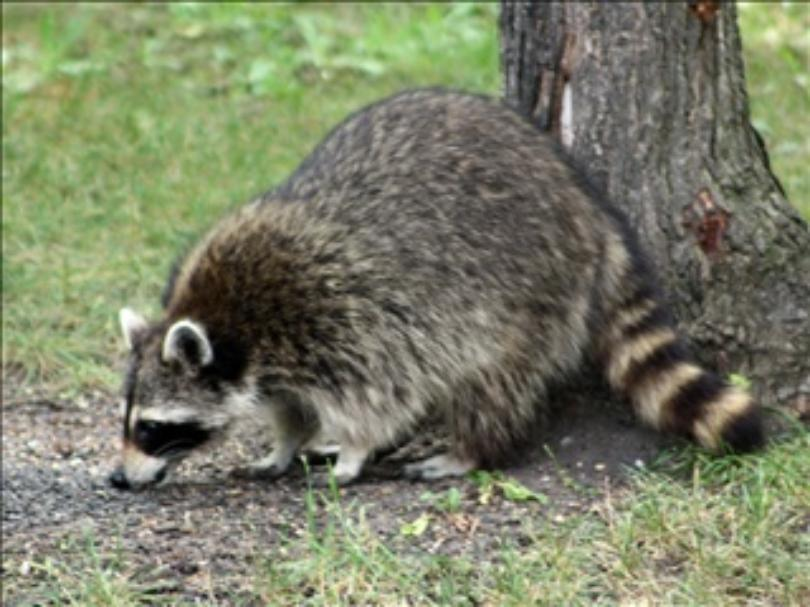raccoon: (83, 53, 789, 530)
